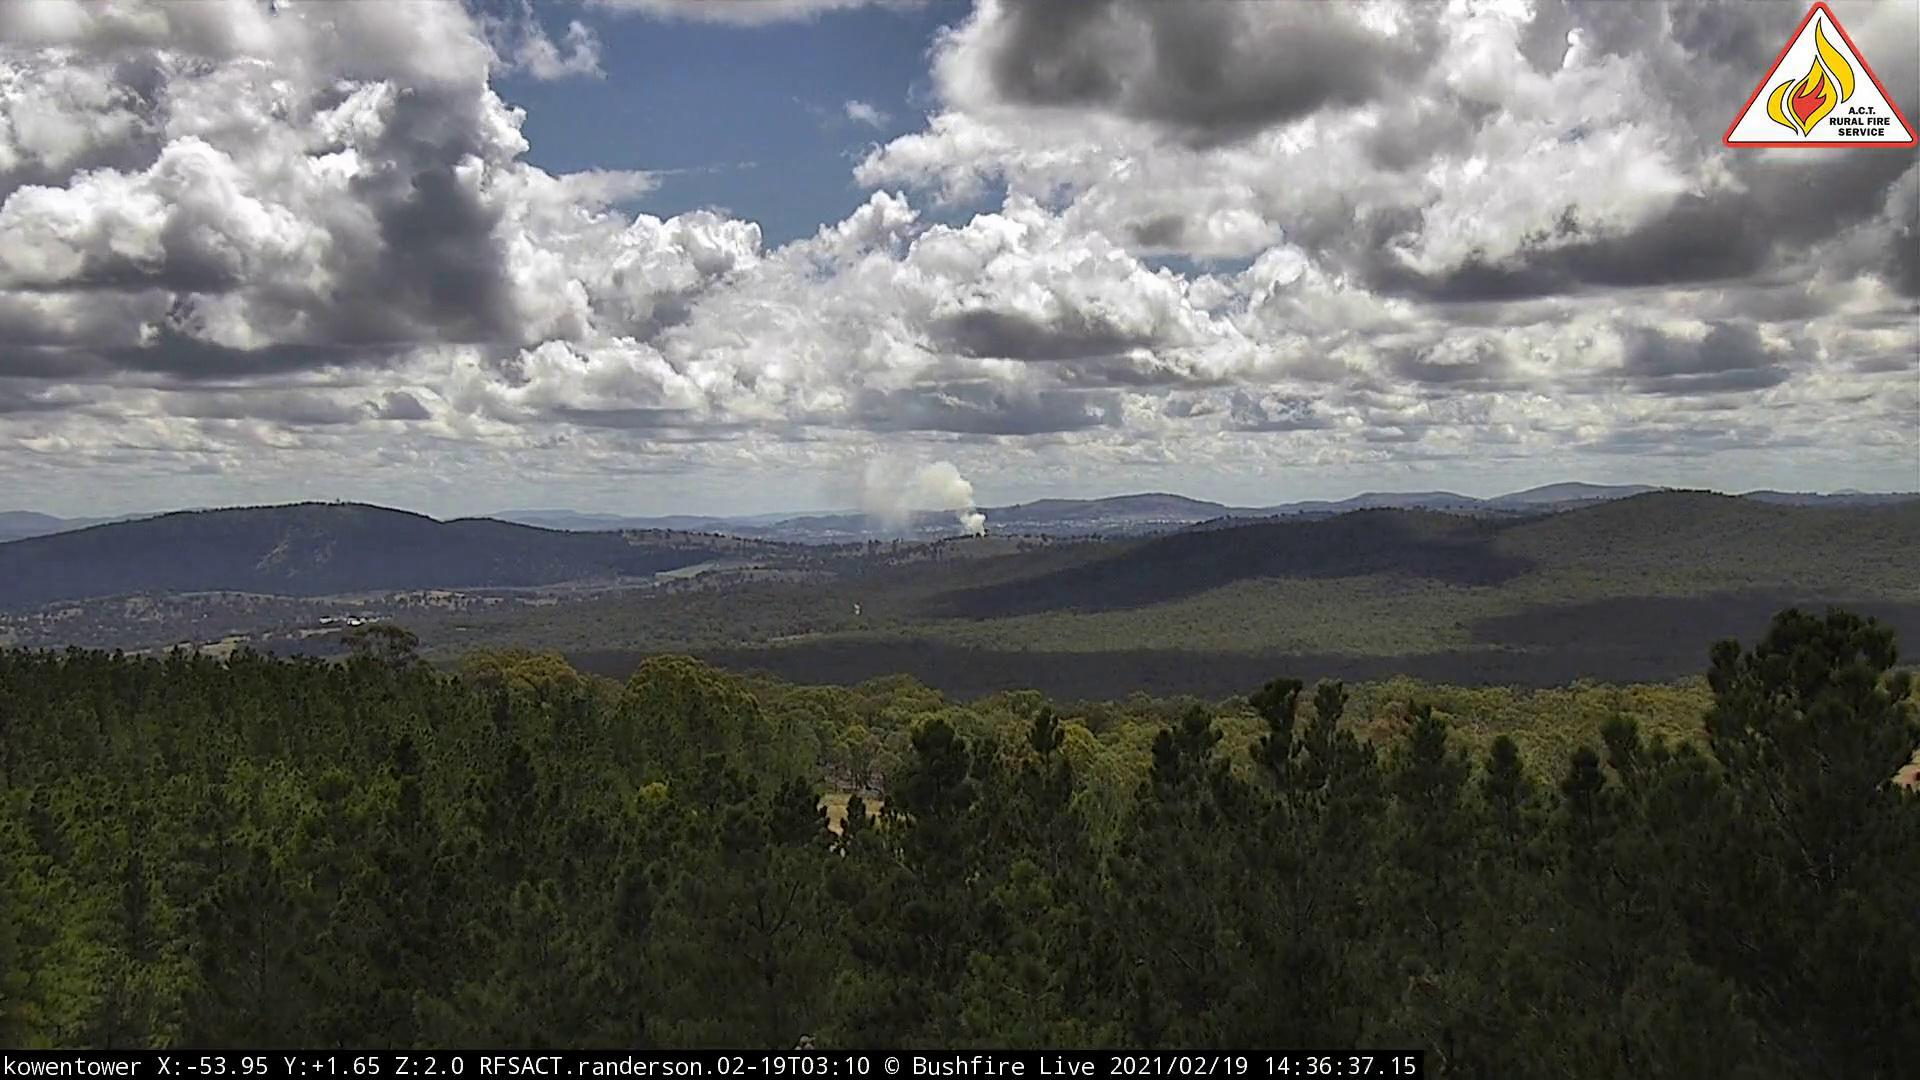Smoke: (820, 448, 993, 542)
